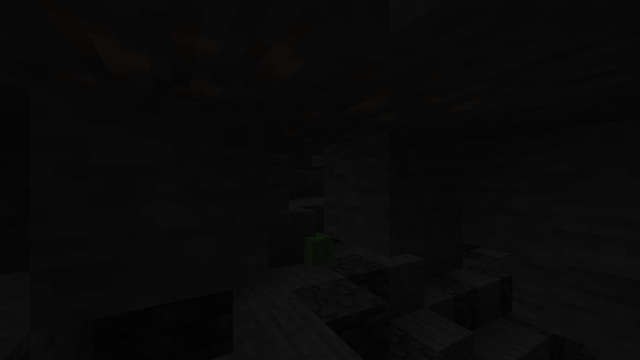slimes: (304, 231, 333, 266)
